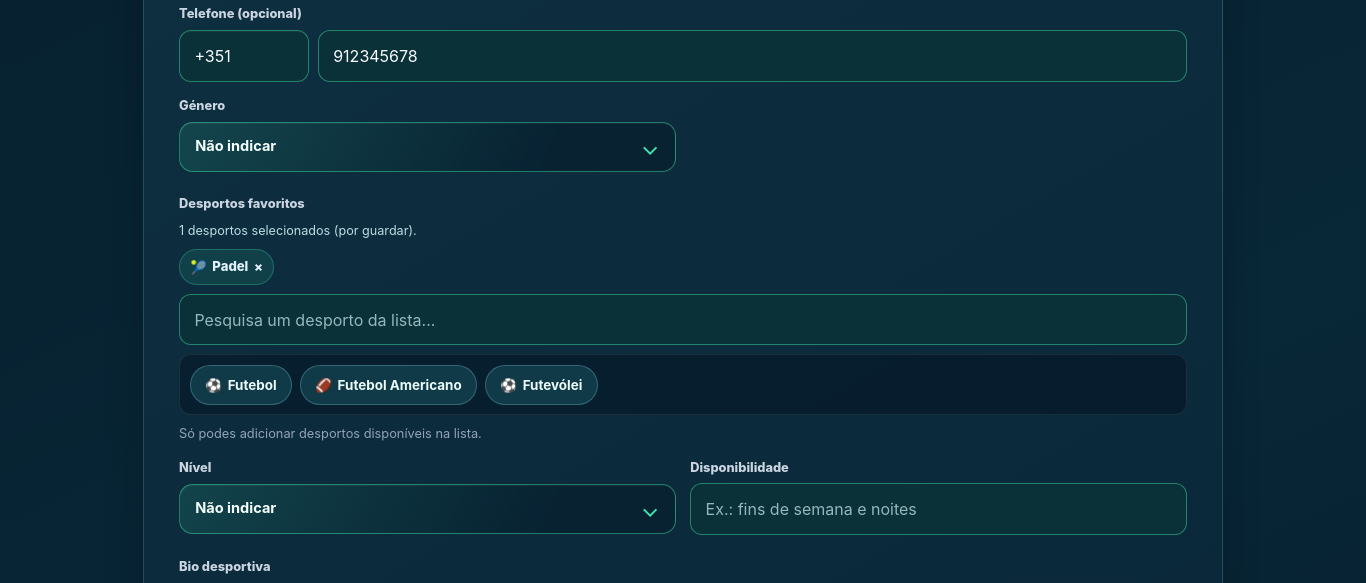
Scenario: AlterardadosComponent › adds a selected sport by clicking a suggestion and visibly acknowledges the change
(page scrolled)
Click the button "⚽ Futebol": [241, 385] box left=190, top=365, right=292, bottom=405
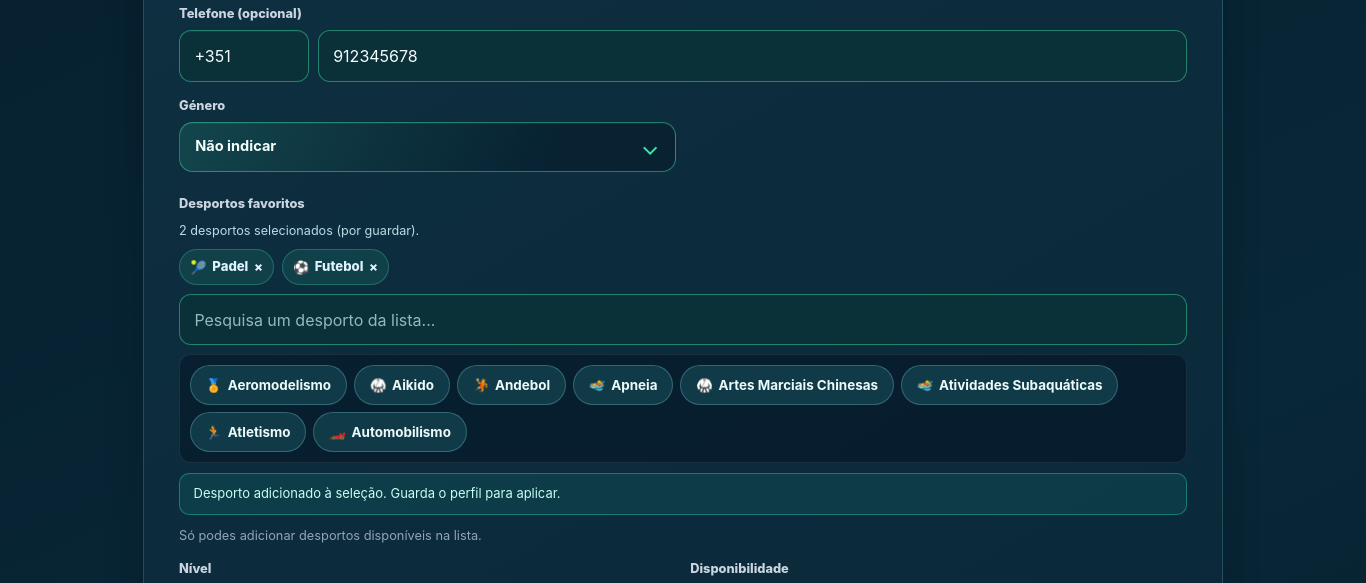
Result: the element with class "sport-chips" shows "Futebol" at left=282, top=249, right=389, bottom=285
Result: the message with class "sport-selection-feedback" shows "Guarda o perfil" at left=194, top=485, right=560, bottom=501
Result: the text with class "sport-selection-count" shows "2 desportos" at left=179, top=223, right=419, bottom=238
